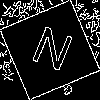N: (25, 25, 76, 81)
